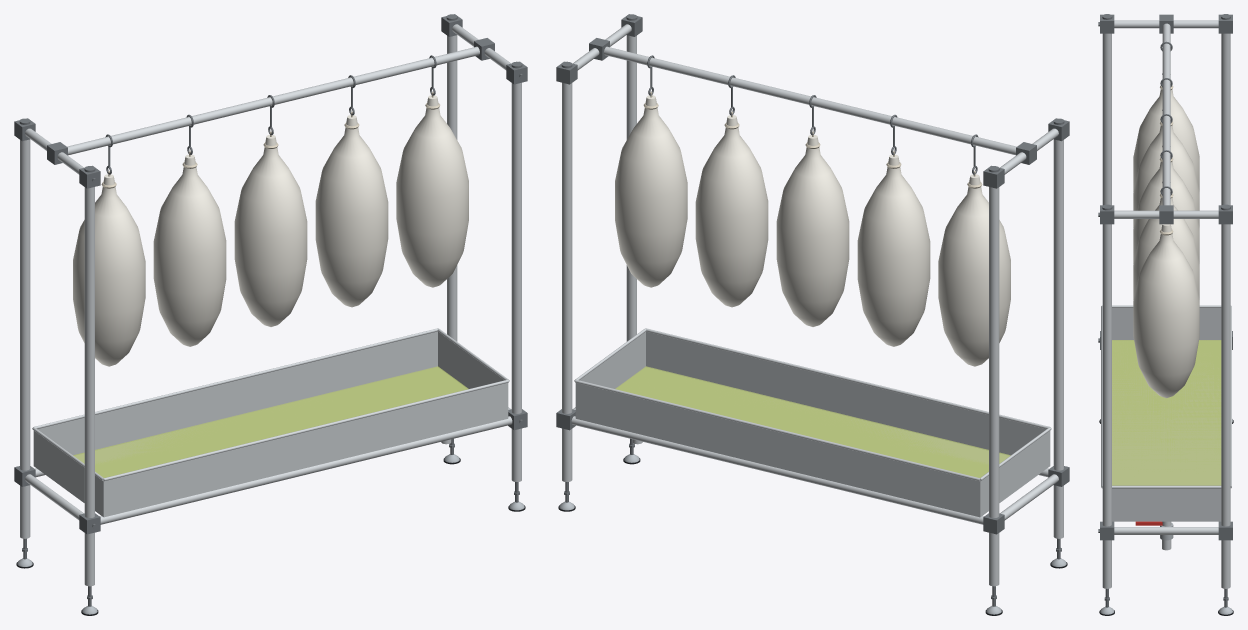
Rendered from abtropfgestell.glb.
3 views of the same model, side by side, from view 1: azimuth 30°, elevation 25°; view 2: azimuth 150°, elevation 25°; view 3: azimuth 270°, elevation 25° (orthographic). The views are drawn at different scales.
Parts seen in each view (by area): view 1: wannenwand_vorne, wannenwand_hinten, molkenspiegel, sack_1, sack_2, sack_3, sack_4, sack_0, pfosten_2, pfosten_0, pfosten_1, haengestange (+7 smaller); view 2: wannenwand_hinten, wannenwand_vorne, molkenspiegel, sack_1, sack_2, sack_3, sack_4, sack_0, pfosten_0, pfosten_2, pfosten_3, haengestange (+7 smaller); view 3: molkenspiegel, sack_4, wannenboden, wannenwand_rechts, pfosten_3, pfosten_1, sack_0, sack_1, sack_3, sack_2, pfosten_2, pfosten_0 (+16 smaller).
Part boxes in pixels (x1=…): wannenwand_vorne: x1=103, y1=383, x2=508, y2=516; wannenwand_hinten: x1=33, y1=331, x2=437, y2=455; molkenspiegel: x1=73, y1=366, x2=468, y2=477; sack_1: x1=153, y1=154, x2=226, y2=346; sack_2: x1=234, y1=134, x2=307, y2=326; sack_3: x1=315, y1=115, x2=388, y2=307; sack_4: x1=396, y1=95, x2=468, y2=287; sack_0: x1=73, y1=174, x2=145, y2=366; pfosten_2: x1=20, y1=139, x2=30, y2=538; pfosten_0: x1=84, y1=187, x2=94, y2=586; pfosten_1: x1=511, y1=82, x2=521, y2=481; haengestange: x1=67, y1=46, x2=479, y2=155; wannenwand_hinten: x1=575, y1=383, x2=980, y2=516; wannenwand_vorne: x1=646, y1=331, x2=1046, y2=455; molkenspiegel: x1=615, y1=366, x2=1010, y2=477; sack_1: x1=857, y1=154, x2=930, y2=346; sack_2: x1=776, y1=134, x2=849, y2=326; sack_3: x1=695, y1=115, x2=768, y2=307; sack_4: x1=615, y1=95, x2=687, y2=287; sack_0: x1=938, y1=174, x2=1010, y2=366; pfosten_0: x1=1053, y1=139, x2=1063, y2=538; pfosten_2: x1=989, y1=187, x2=999, y2=586; pfosten_3: x1=562, y1=82, x2=572, y2=481; haengestange: x1=604, y1=46, x2=1016, y2=155; molkenspiegel: x1=1112, y1=340, x2=1221, y2=485; sack_4: x1=1133, y1=224, x2=1199, y2=398; wannenboden: x1=1112, y1=368, x2=1221, y2=521; wannenwand_rechts: x1=1112, y1=488, x2=1221, y2=521; pfosten_3: x1=1221, y1=224, x2=1230, y2=588; pfosten_1: x1=1102, y1=224, x2=1111, y2=588; sack_0: x1=1133, y1=83, x2=1199, y2=191; sack_1: x1=1133, y1=119, x2=1199, y2=227; sack_3: x1=1133, y1=191, x2=1199, y2=300; sack_2: x1=1133, y1=155, x2=1199, y2=263; pfosten_2: x1=1221, y1=33, x2=1230, y2=205; pfosten_0: x1=1102, y1=33, x2=1111, y2=205.
Bounding box in the file's own units: 1.97 × 1.89 × 0.571.
